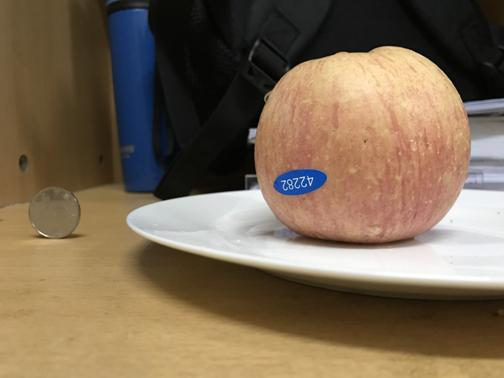apple: (251, 46, 470, 243)
coin: (26, 186, 81, 238)
